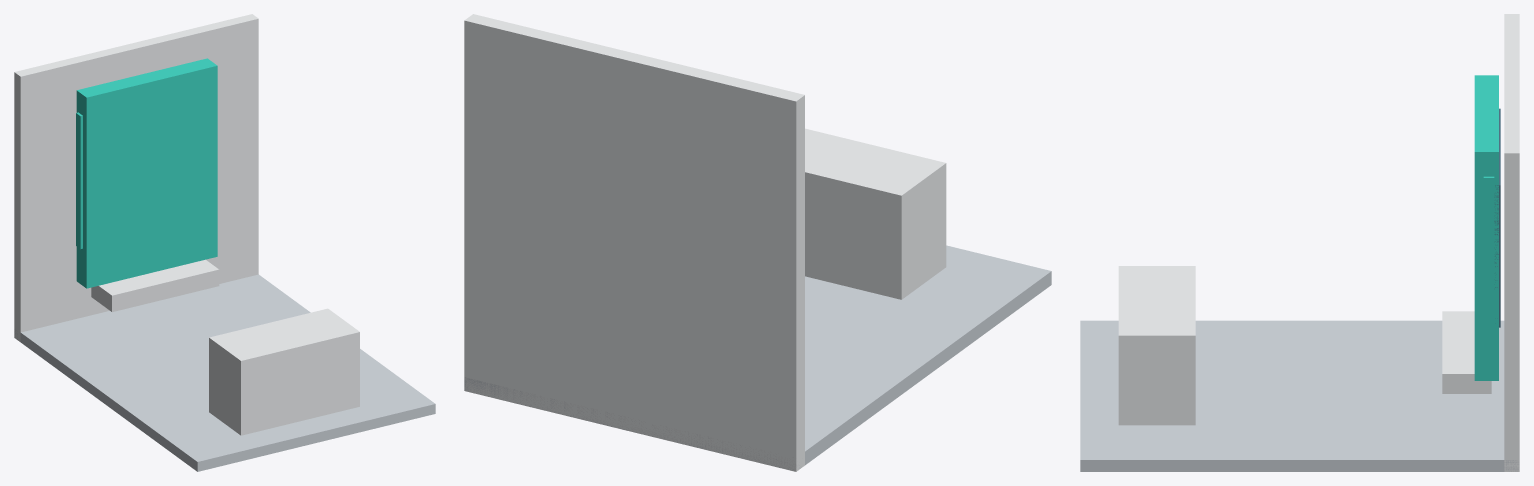
The picture shows the model from 3 angles, left to right: view 1: azimuth 30°, elevation 25°; view 2: azimuth 150°, elevation 25°; view 3: azimuth 270°, elevation 25°; orthographic projection. The views are drawn at different scales.
Parts seen in each view (by area): view 1: Exhibition Booth Concept; view 2: Exhibition Booth Concept; view 3: Exhibition Booth Concept.
Boxes of the visible parts, box(x1,y1,x2,y2) form: Exhibition Booth Concept: box(14, 14, 435, 471); Exhibition Booth Concept: box(464, 14, 1051, 471); Exhibition Booth Concept: box(1080, 14, 1519, 471).
Bounding box in the file's own units: 3 × 3.2 × 4.
